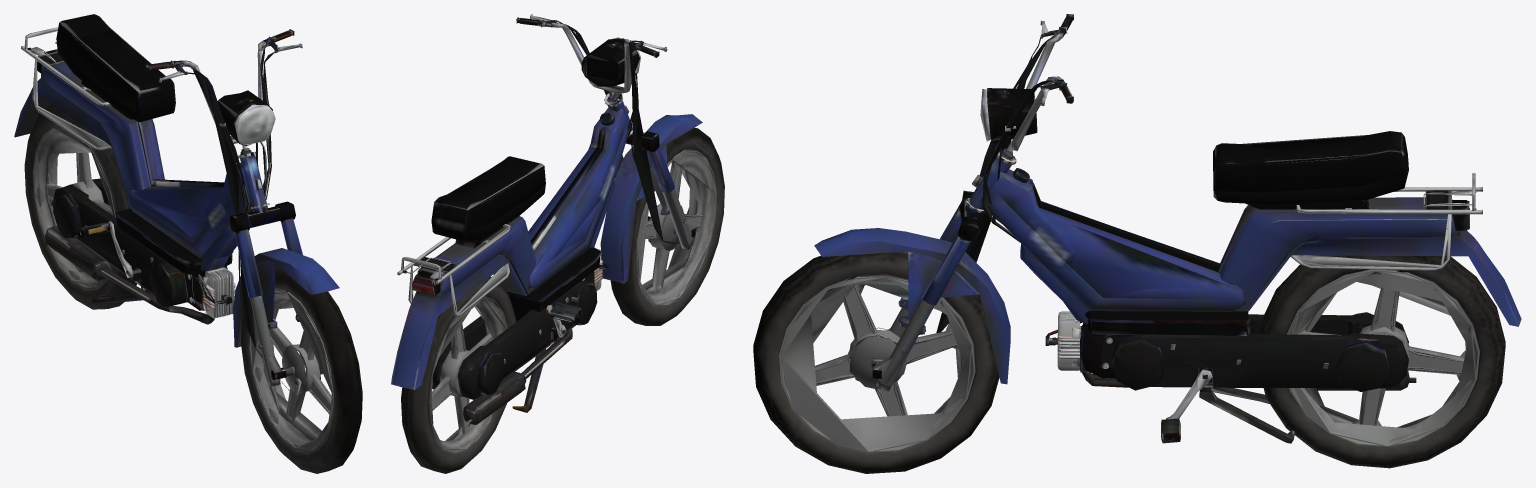
Rendered from scooter.glb.
3 renders of one model, left to right at view 1: azimuth 30°, elevation 25°; view 2: azimuth 150°, elevation 25°; view 3: azimuth 270°, elevation 25°, orthographic. The views are drawn at different scales.
Parts seen in each view (by area): view 1: kit0, kit1, far; view 2: kit0, kit1, far; view 3: kit0, kit1, far.
Boxes of the visible parts, x1,y1,x2,y2 form: kit0: [14, 14, 362, 473]; kit1: [19, 23, 333, 452]; far: [15, 50, 296, 397]; kit0: [391, 14, 724, 473]; kit1: [397, 15, 720, 453]; far: [420, 20, 675, 424]; kit0: [753, 14, 1521, 473]; kit1: [779, 14, 1507, 454]; far: [936, 38, 1473, 387].
Size of the model in its own units: 0.4532 by 1.05 by 1.75.
1 material, 1 textured.
